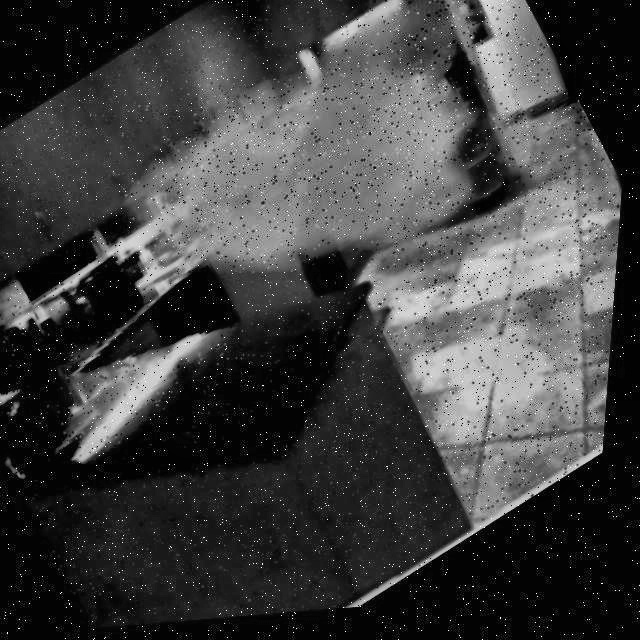Smoke: (56, 0, 521, 396)
